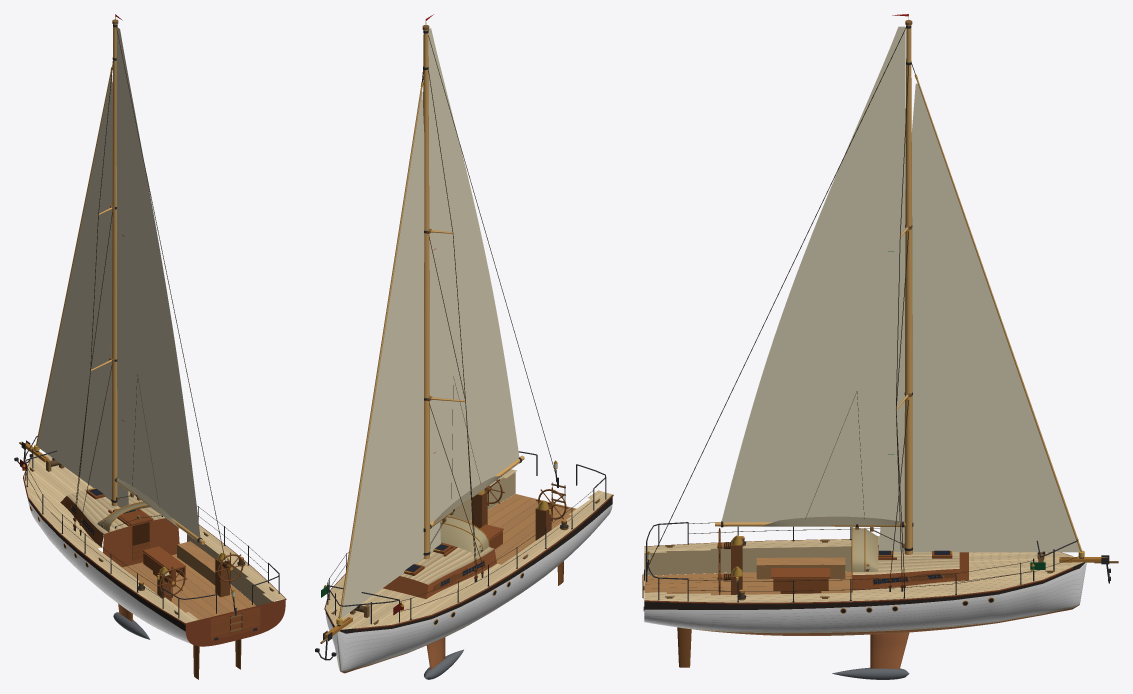
Rendered from yacht.glb.
The picture shows the model from 3 angles, left to right: view 1: azimuth 30°, elevation 25°; view 2: azimuth 150°, elevation 25°; view 3: azimuth 270°, elevation 25°; orthographic projection. The views are drawn at different scales.
Visible parts, largest first — view 1: hull, sail, jib, mast, boom; view 2: sail, hull, jib, mast, boom; view 3: sail, jib, hull, mast, boom, daggerboard, bulb.
Part boxes in pixels (box(x1,y1,x2,y2)): hull: box(14, 436, 286, 646); sail: box(116, 27, 200, 537); jib: box(37, 75, 128, 511); mast: box(34, 16, 236, 615); boom: box(114, 374, 205, 544); sail: box(428, 28, 519, 522); hull: box(315, 451, 613, 673); jib: box(340, 91, 440, 618); mast: box(336, 19, 558, 626); boom: box(423, 376, 524, 531); sail: box(721, 26, 905, 522); jib: box(878, 83, 1080, 552); hull: box(642, 522, 1118, 635); mast: box(644, 14, 1084, 591); boom: box(715, 391, 913, 527); daggerboard: box(870, 632, 909, 669); bulb: box(832, 667, 909, 679).
Bounding box in the file's own units: 4.05 × 19.87 × 12.89.
